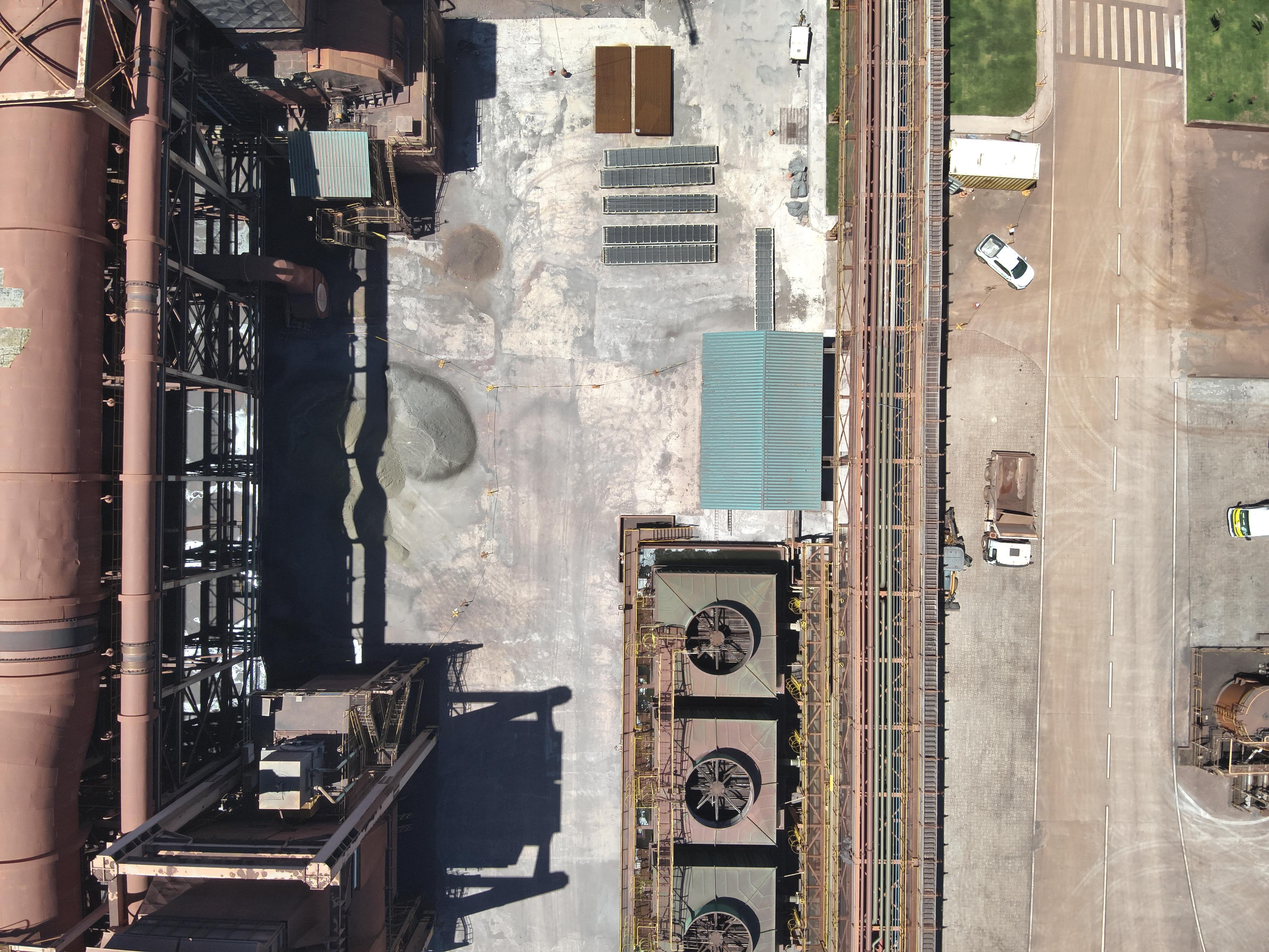Failures: (236, 68, 318, 95), (1, 326, 32, 371), (0, 268, 25, 309)
